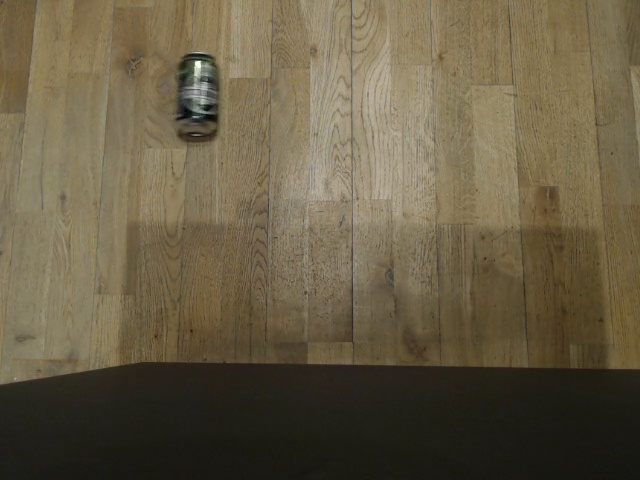beer: (172, 49, 221, 143)
